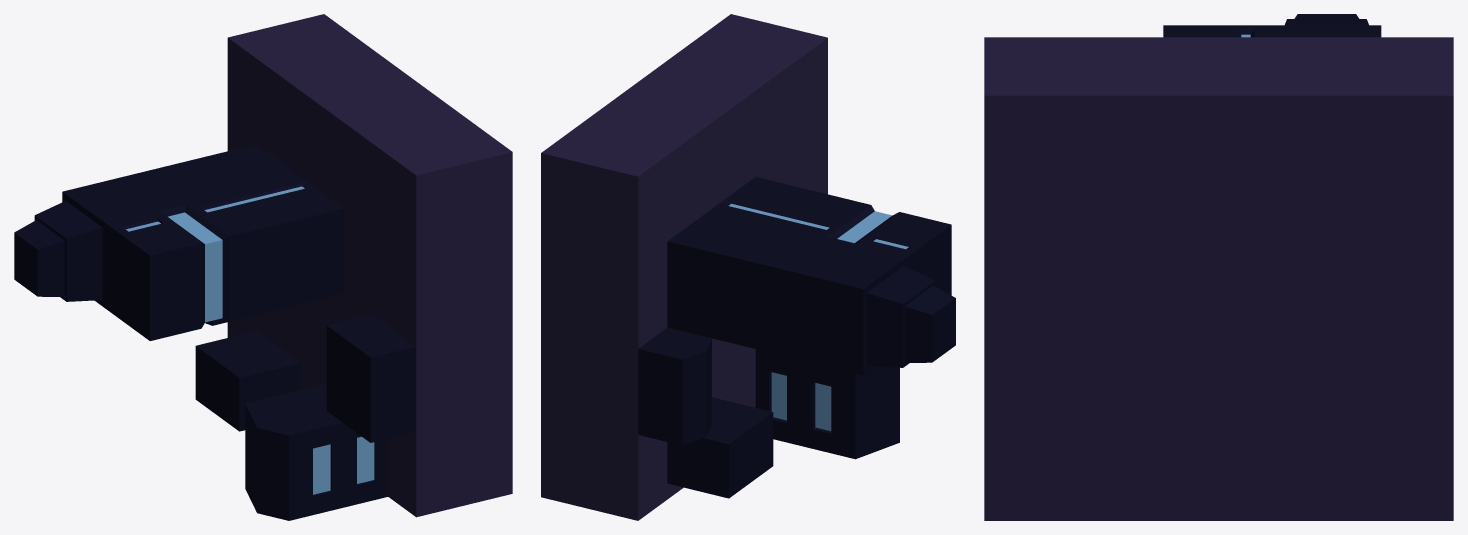
The model's file is Map_City_normal_One.fbx.
The picture shows the model from 3 angles, left to right: view 1: azimuth 30°, elevation 25°; view 2: azimuth 150°, elevation 25°; view 3: azimuth 270°, elevation 25°; orthographic projection. The views are drawn at different scales.
Visible parts, largest first — view 1: Cube.008; view 2: Cube.008; view 3: Cube.008.
Part boxes in pixels (bbox=[...]): Cube.008: bbox=[14, 14, 512, 520]; Cube.008: bbox=[541, 14, 955, 520]; Cube.008: bbox=[984, 14, 1453, 520].
Size of the model in its own units: 400 by 400 by 428.
